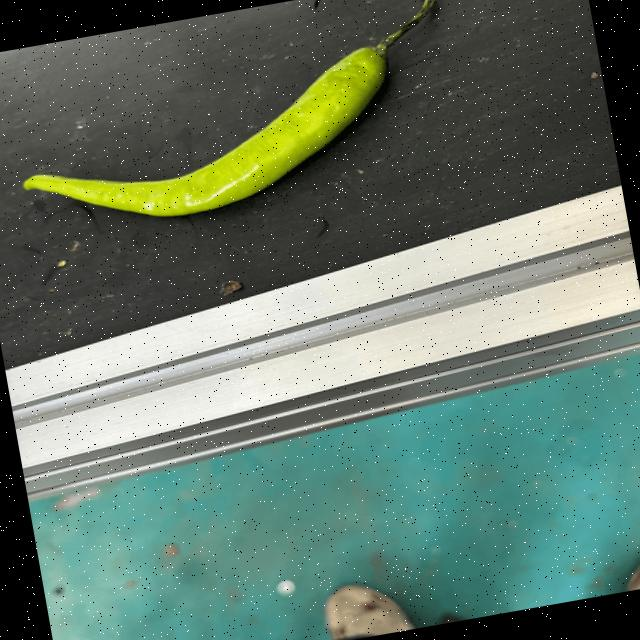chili: (20, 43, 389, 218)
